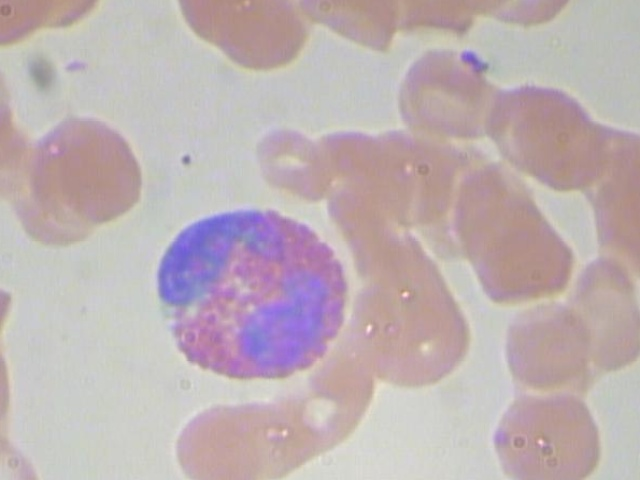Platelets: (458, 44, 495, 75)
RBC: (344, 278, 478, 391), (24, 114, 150, 225), (485, 388, 610, 480), (516, 97, 611, 191), (491, 299, 587, 392), (172, 398, 267, 480), (215, 0, 310, 80), (255, 122, 329, 201)
WBC: (138, 195, 360, 391)
